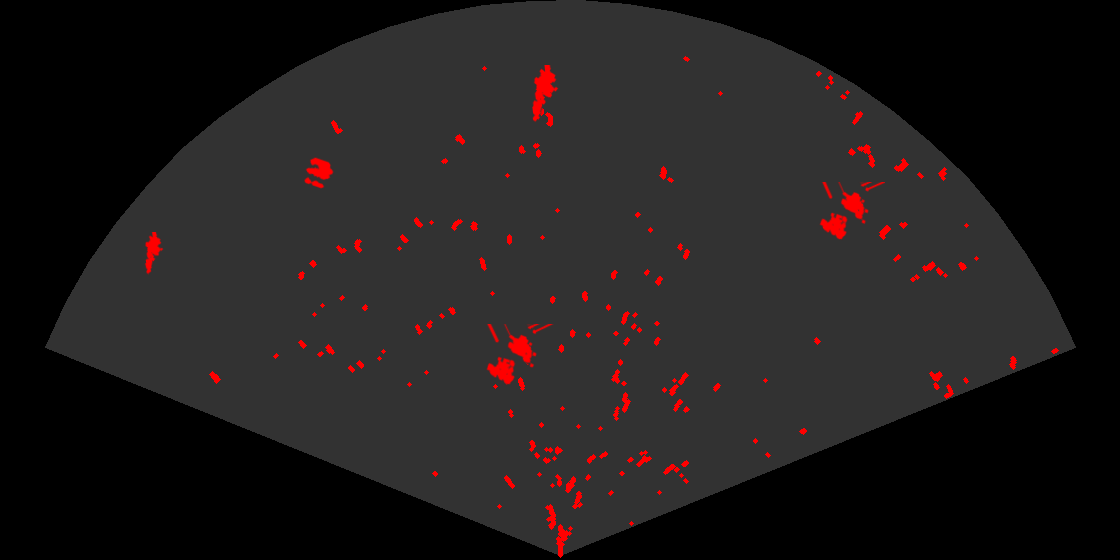ball: (303, 156, 335, 190)
cage: (485, 324, 554, 386), (818, 182, 885, 241)
frogman: (531, 65, 560, 123), (143, 232, 165, 275)
